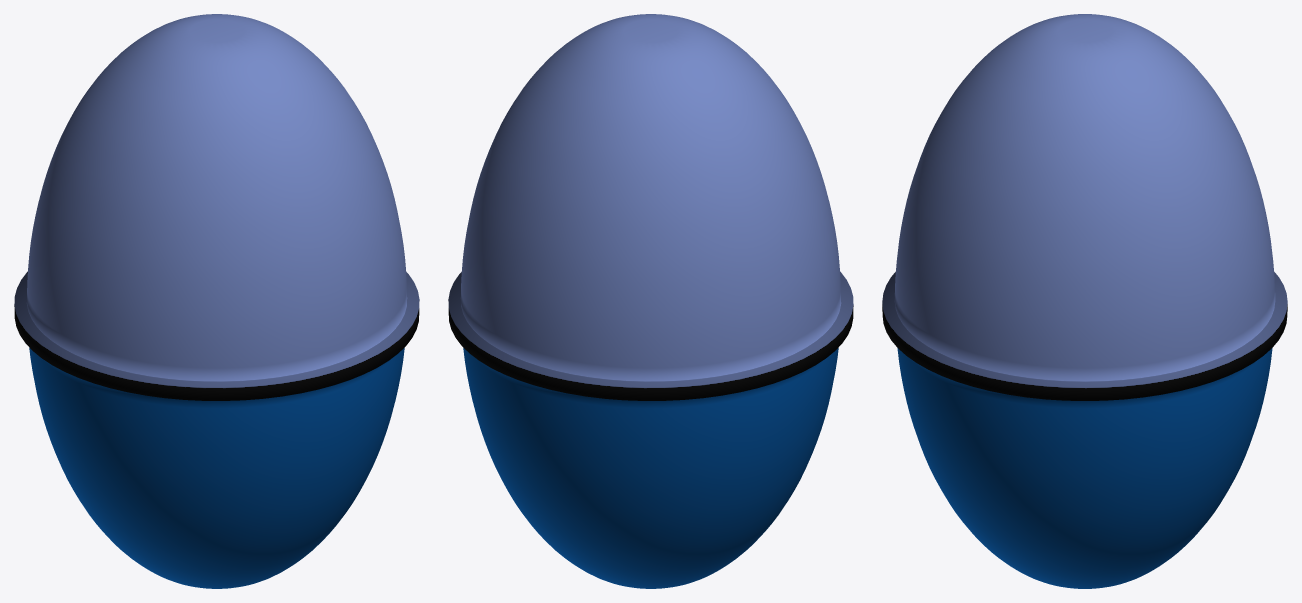
File: Pill.fbx
The picture shows the model from 3 angles, left to right: view 1: azimuth 30°, elevation 25°; view 2: azimuth 150°, elevation 25°; view 3: azimuth 270°, elevation 25°; orthographic projection.
Visible parts, largest first — view 1: Sphere; view 2: Sphere; view 3: Sphere.
Part boxes in pixels (left/top/right/bottom): Sphere: left=14, top=14, right=419, bottom=588; Sphere: left=448, top=14, right=853, bottom=588; Sphere: left=882, top=14, right=1287, bottom=588.
Bounding box in the file's own units: 219 × 323 × 219.
Materials: 1 (1 with a texture image).
